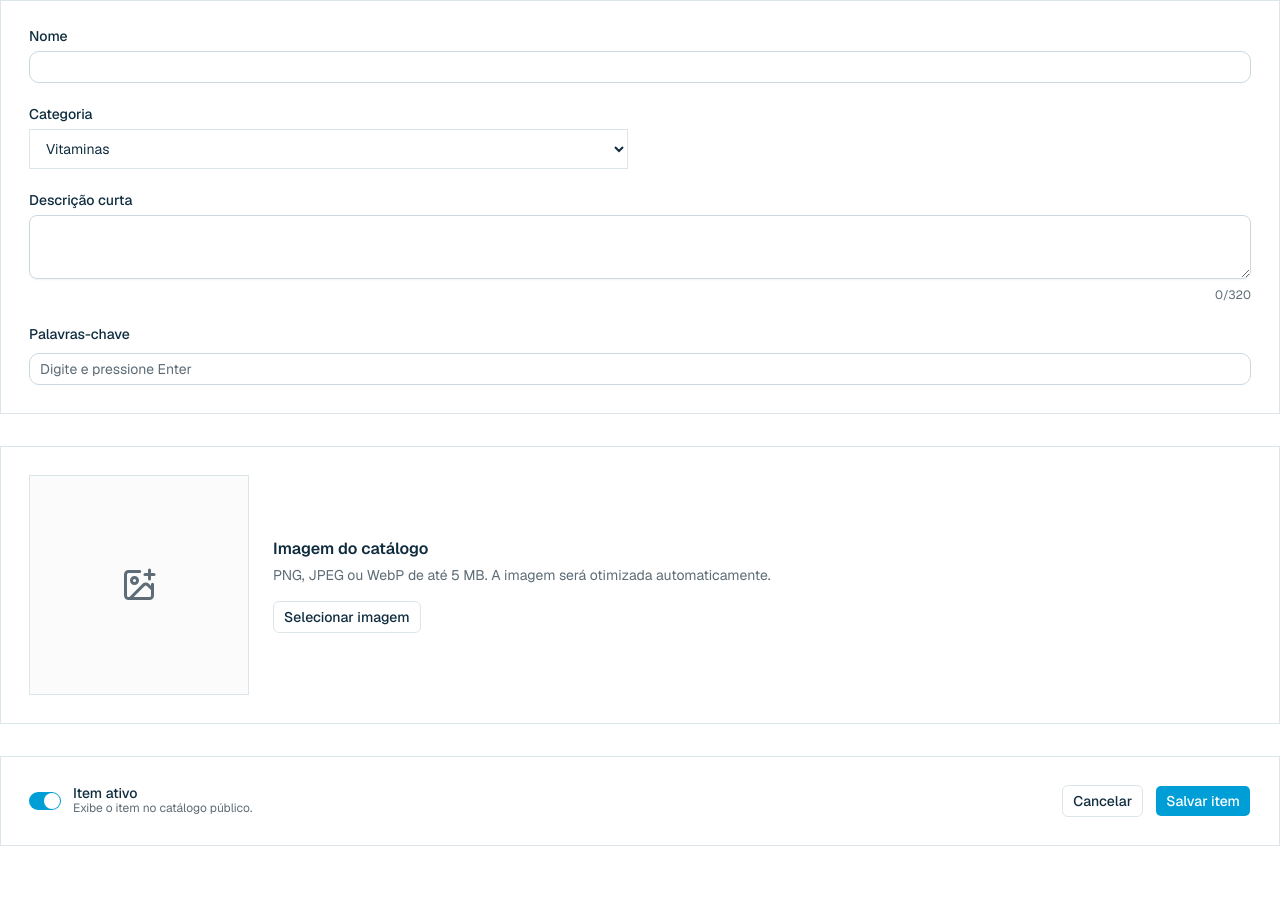
CatalogForm › shows the required field errors without saving
This screenshot has width=1280, height=900.
Click the button "Salvar item": (1203, 801) top-left (1155, 785), bottom-right (1251, 817)
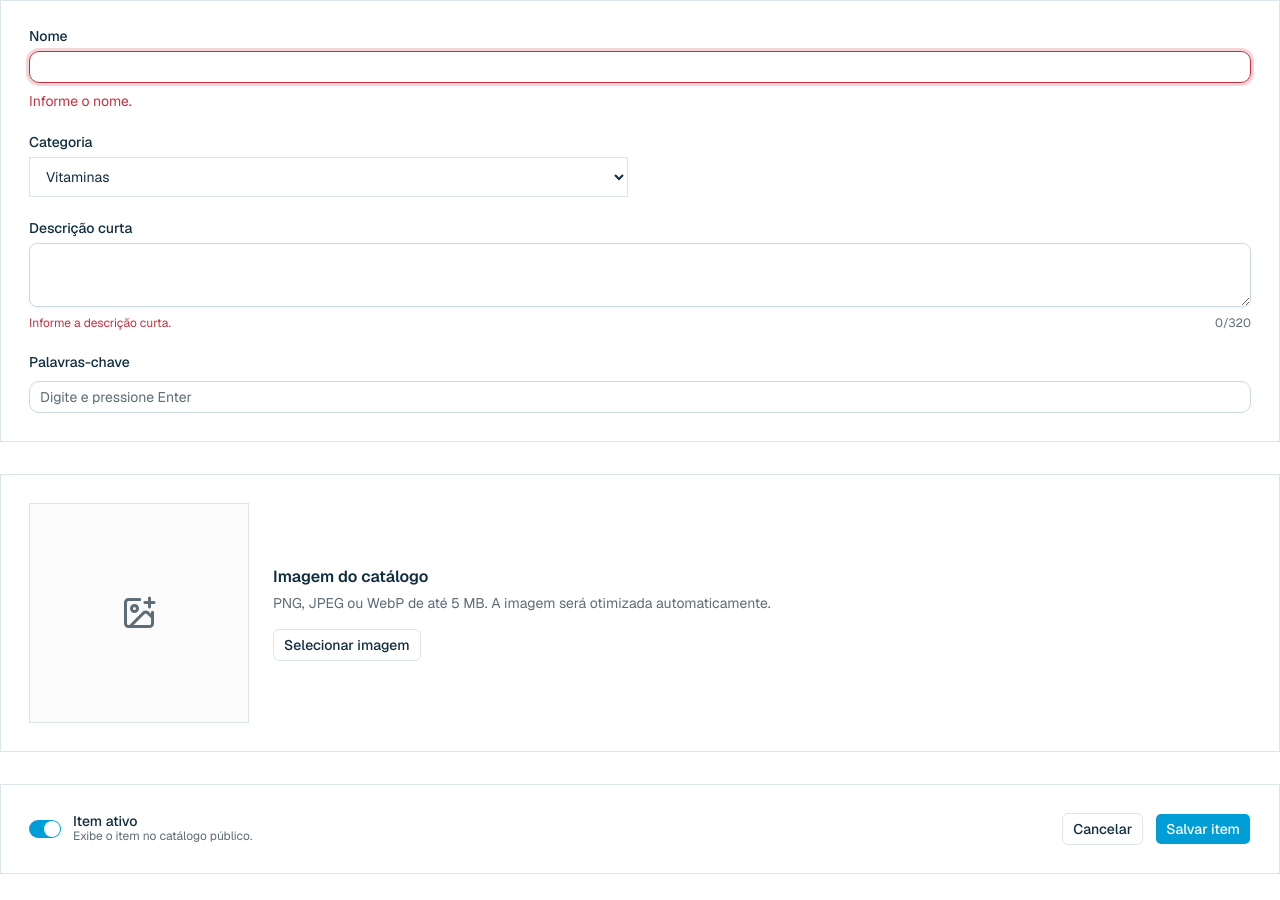
Expected: the text "Informe o nome." is shown, top-left (29, 92), bottom-right (132, 110)
Expected: the text "Informe a descrição curta." is shown, top-left (29, 315), bottom-right (171, 331)
